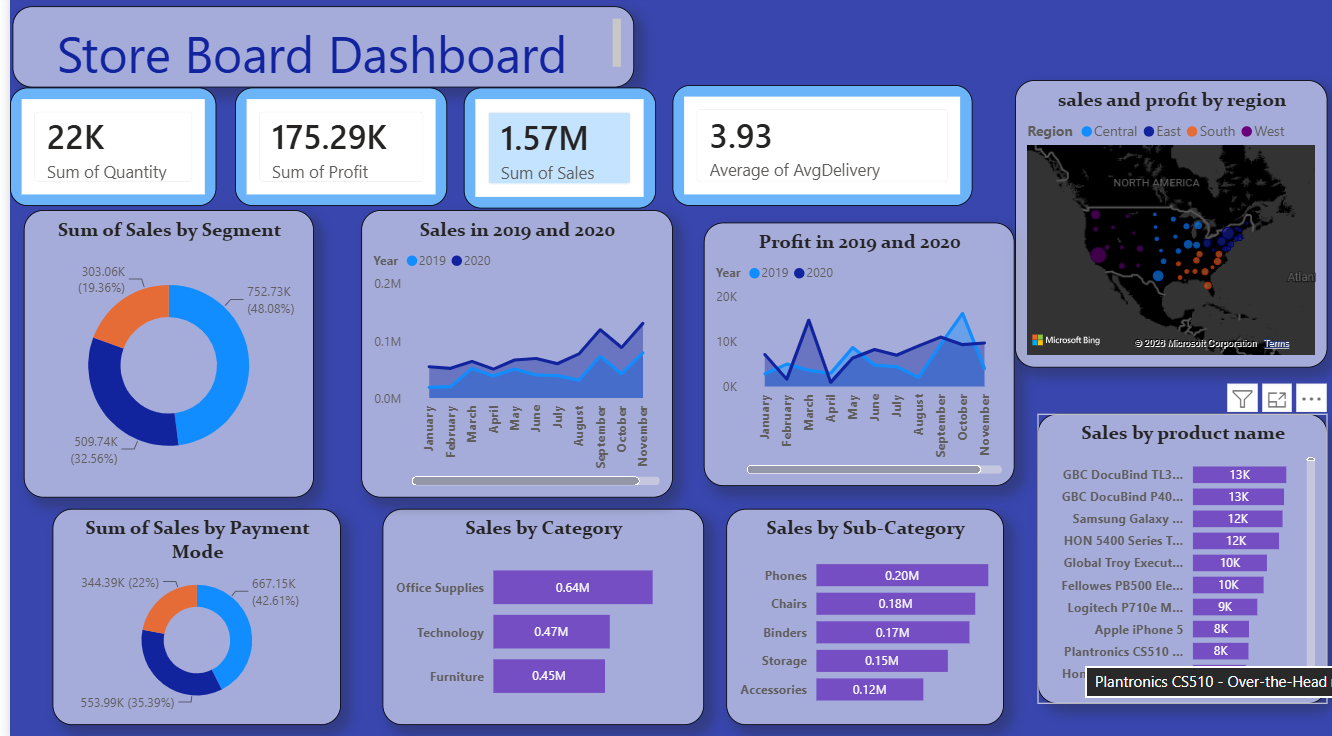

Layout of this report page (visuals, bound fields, positions):
{"tool":"powerbi","page":{"name":"Page 1","canvas":[1280,720],"ordinal":0},"visuals":[{"type":"clusteredBarChart","title":"Sales by Category","fields":{"Category":["SuperStore_Sales_Dataset.Category"],"Y":["Sum(SuperStore_Sales_Dataset.Sales)"]},"box":[359.5,495.8,310.1,208.7],"z":0},{"type":"clusteredBarChart","title":"Sales by Sub-Category","fields":{"Category":["SuperStore_Sales_Dataset.Sub-Category"],"Y":["Sum(SuperStore_Sales_Dataset.Sales)"]},"box":[690.9,495.4,267.8,208.9],"z":1000},{"type":"areaChart","title":"Sales in 2019 and 2020","fields":{"Y":["Sum(SuperStore_Sales_Dataset.Sales)"],"Category":["SuperStore_Sales_Dataset.Order Date.Variation.Date Hierarchy.Month"],"Series":["SuperStore_Sales_Dataset.Order Date.Variation.Date Hierarchy.Year"]},"box":[339,207.5,300.4,277.5],"z":2000},{"type":"areaChart","title":"Profit in 2019 and 2020","fields":{"Category":["SuperStore_Sales_Dataset.Order Date.Variation.Date Hierarchy.Month"],"Series":["SuperStore_Sales_Dataset.Order Date.Variation.Date Hierarchy.Year"],"Y":["Sum(SuperStore_Sales_Dataset.Profit)"]},"box":[669.5,219.6,299.9,254.4],"z":3000},{"type":"clusteredBarChart","title":"Sales by product name","fields":{"Y":["Sum(SuperStore_Sales_Dataset.Sales)"],"Category":["SuperStore_Sales_Dataset.Product Name"]},"box":[991.7,404.2,279.9,279.9],"z":4000},{"type":"map","title":"sales and profit by region","fields":{"Category":["SuperStore_Sales_Dataset.State"],"Size":["Sum(SuperStore_Sales_Dataset.Sales)"],"Series":["SuperStore_Sales_Dataset.Region"]},"box":[970,82,301.6,277.5],"z":5000},{"type":"donutChart","fields":{"Category":["SuperStore_Sales_Dataset.Segment"],"Y":["Sum(SuperStore_Sales_Dataset.Sales)"]},"box":[13.3,207.5,279.9,277.5],"z":6000},{"type":"donutChart","fields":{"Category":["SuperStore_Sales_Dataset.Payment Mode"],"Y":["Sum(SuperStore_Sales_Dataset.Sales)"]},"box":[41,495.8,278.7,208.7],"z":7000},{"type":"textbox","box":[2.4,10.9,599.6,78.4],"z":8000},{"type":"cardVisual","title":"Sales","fields":{"Data":["Sum(SuperStore_Sales_Dataset.Sales)"]},"box":[437.9,89.3,185.8,117],"z":9000},{"type":"cardVisual","title":"Sales","fields":{"Data":["Sum(SuperStore_Sales_Dataset.Quantity)"]},"box":[0,89.3,199.1,114.6],"z":10000},{"type":"cardVisual","title":"Sales","fields":{"Data":["Sum(SuperStore_Sales_Dataset.Profit)"]},"box":[217.2,89.3,205.1,114.6],"z":11000},{"type":"cardVisual","fields":{"Data":["Avg(SuperStore_Sales_Dataset.AvgDelivery)"]},"box":[639.4,86.9,289.5,117],"z":12000}]}

Visuals, with their boxes in screenshot pixels (x1, y1, x2, y2), scaled from the page's 1280x720 canvas onto the 1332x736 screenshot:
"Sales by Category" clusteredBarChart: bbox=(374, 507, 697, 720)
"Sales by Sub-Category" clusteredBarChart: bbox=(719, 506, 998, 720)
"Sales in 2019 and 2020" areaChart: bbox=(353, 212, 665, 496)
"Profit in 2019 and 2020" areaChart: bbox=(697, 224, 1009, 485)
"Sales by product name" clusteredBarChart: bbox=(1032, 413, 1323, 699)
"sales and profit by region" map: bbox=(1009, 84, 1323, 367)
donutChart - SuperStore_Sales_Dataset.Segment x Sum(SuperStore_Sales_Dataset.Sales): bbox=(14, 212, 305, 496)
donutChart - SuperStore_Sales_Dataset.Payment Mode x Sum(SuperStore_Sales_Dataset.Sales): bbox=(43, 507, 333, 720)
textbox: bbox=(2, 11, 626, 91)
"Sales" cardVisual: bbox=(456, 91, 649, 211)
"Sales" cardVisual: bbox=(0, 91, 207, 208)
"Sales" cardVisual: bbox=(226, 91, 439, 208)
cardVisual - Avg(SuperStore_Sales_Dataset.AvgDelivery): bbox=(665, 89, 967, 208)
